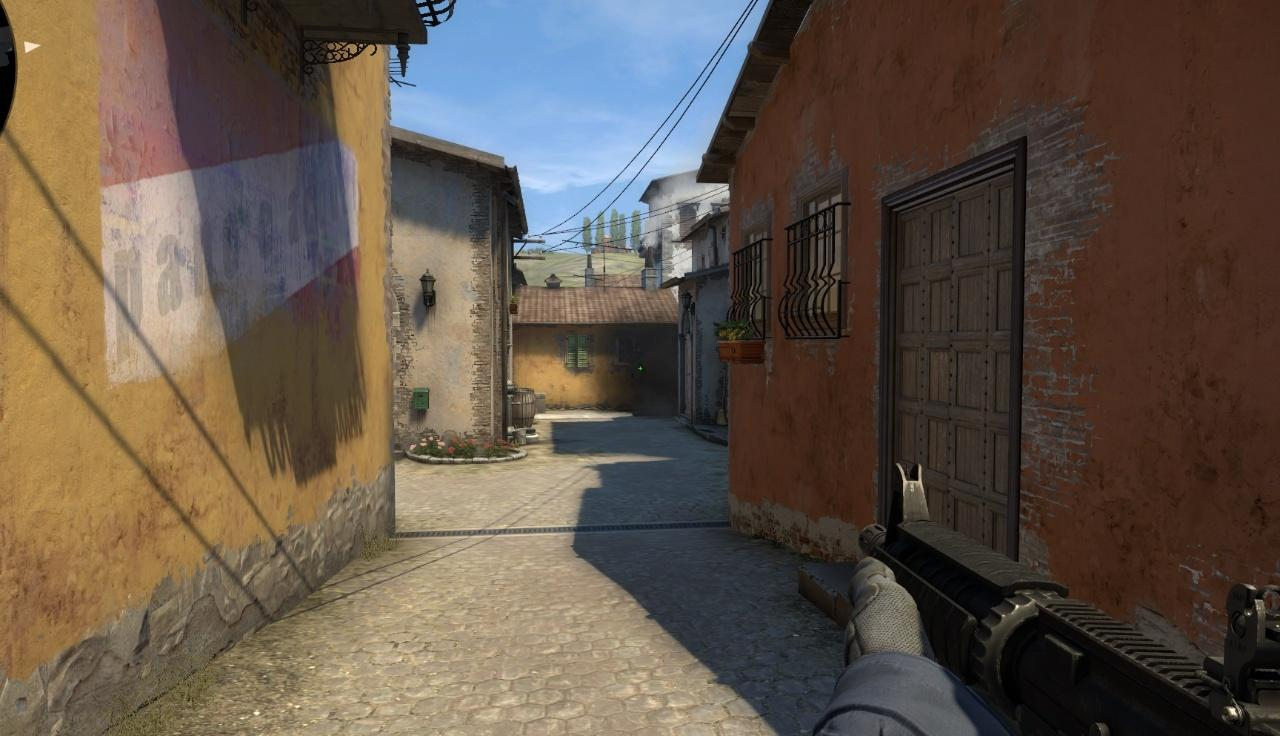rifle: (850, 461, 1280, 736)
